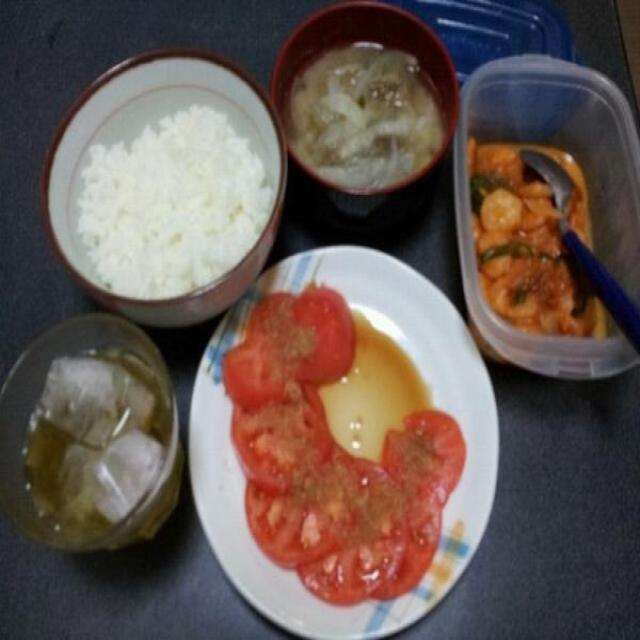Rice: (78, 100, 268, 290)
